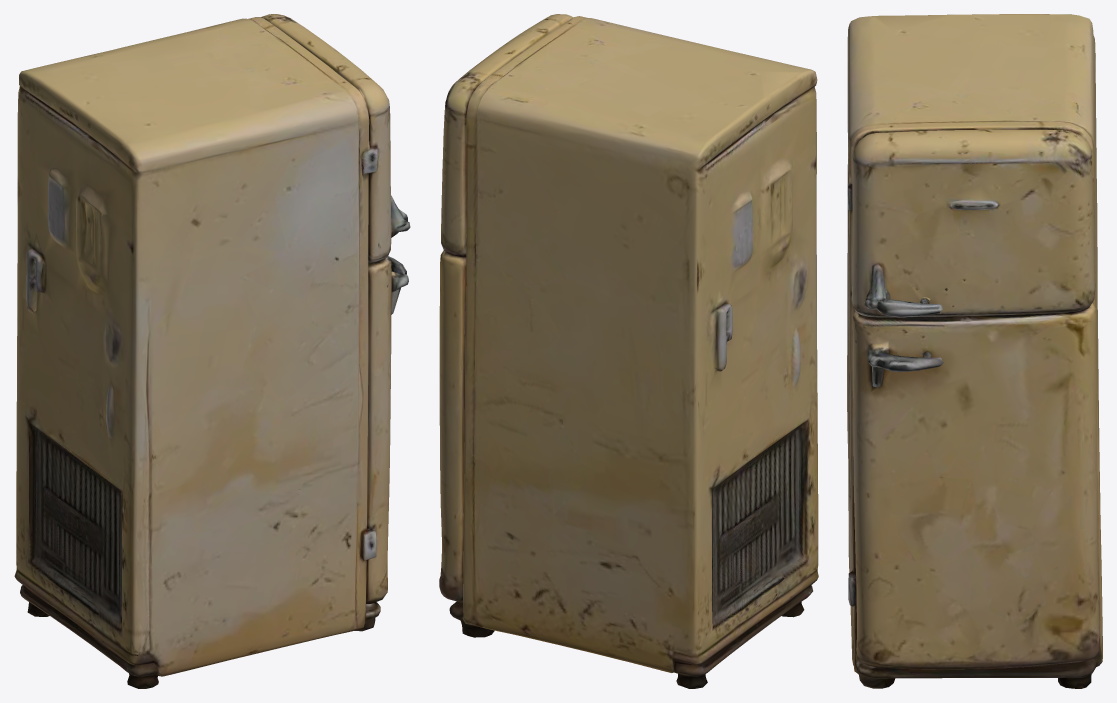
The model's file is planner.glb.
3 views of the same model, side by side, from view 1: azimuth 30°, elevation 25°; view 2: azimuth 150°, elevation 25°; view 3: azimuth 270°, elevation 25° (orthographic). The views are drawn at different scales.
Visible parts, largest first — view 1: tripo_node_d2eebd77-2059-4087-ba4a-470ad89d048c; view 2: tripo_node_d2eebd77-2059-4087-ba4a-470ad89d048c; view 3: tripo_node_d2eebd77-2059-4087-ba4a-470ad89d048c.
Part boxes in pixels (x1,y1,x2,y2): tripo_node_d2eebd77-2059-4087-ba4a-470ad89d048c: [14, 14, 410, 688]; tripo_node_d2eebd77-2059-4087-ba4a-470ad89d048c: [439, 14, 818, 688]; tripo_node_d2eebd77-2059-4087-ba4a-470ad89d048c: [847, 14, 1102, 688].
Bounding box in the file's own units: 0.5763 × 1 × 0.4159.
Materials: 1 (1 with a texture image).
